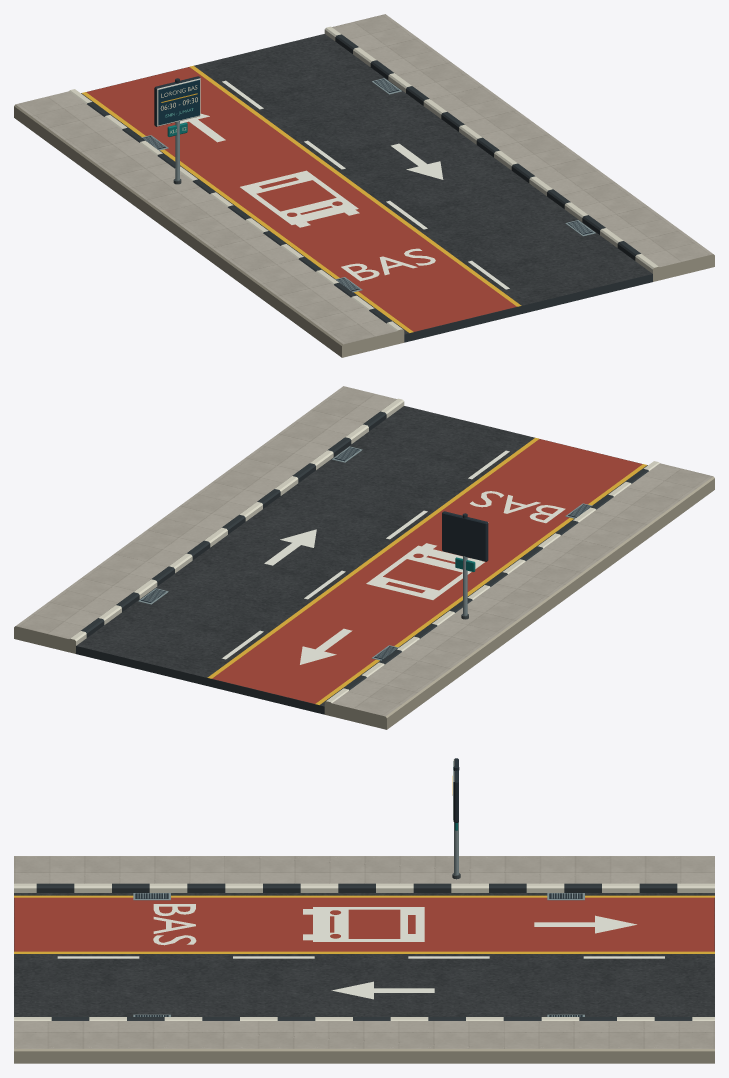
3 views of the same model, one above another, from view 1: azimuth 30°, elevation 25°; view 2: azimuth 150°, elevation 25°; view 3: azimuth 270°, elevation 25° (orthographic). The views are drawn at different scales.
Parts seen in each view (by area): view 1: Kerbs and Footways, Road Deck, Timed Priority Surfacing, Road Markings, Reserved Bus Pictogram, Priority Sign Assembly, Directional Stencils, Drainage and Utility Covers, Priority Legends; view 2: Kerbs and Footways, Road Deck, Timed Priority Surfacing, Road Markings, Reserved Bus Pictogram, Priority Sign Assembly, Directional Stencils, Drainage and Utility Covers, Priority Legends; view 3: Kerbs and Footways, Road Deck, Timed Priority Surfacing, Road Markings, Reserved Bus Pictogram, Directional Stencils, Priority Legends, Drainage and Utility Covers, Priority Sign Assembly.
Boxes of the visible parts, x1=… form: Kerbs and Footways: x1=14, y1=14, x2=714, y2=357; Road Deck: x1=81, y1=34, x2=652, y2=342; Timed Priority Surfacing: x1=86, y1=67, x2=516, y2=331; Road Markings: x1=82, y1=65, x2=521, y2=332; Reserved Bus Pictogram: x1=240, y1=170, x2=359, y2=227; Priority Sign Assembly: x1=154, y1=76, x2=200, y2=184; Directional Stencils: x1=180, y1=113, x2=443, y2=179; Drainage and Utility Covers: x1=141, y1=78, x2=595, y2=292; Priority Legends: x1=341, y1=248, x2=435, y2=281; Kerbs and Footways: x1=14, y1=386, x2=714, y2=729; Road Deck: x1=76, y1=406, x2=647, y2=714; Timed Priority Surfacing: x1=212, y1=439, x2=642, y2=703; Road Markings: x1=207, y1=437, x2=646, y2=704; Reserved Bus Pictogram: x1=366, y1=543, x2=484, y2=600; Priority Sign Assembly: x1=442, y1=511, x2=488, y2=619; Directional Stencils: x1=264, y1=529, x2=352, y2=664; Drainage and Utility Covers: x1=138, y1=446, x2=592, y2=660; Priority Legends: x1=470, y1=491, x2=565, y2=523; Kerbs and Footways: x1=14, y1=856, x2=714, y2=1063; Road Deck: x1=14, y1=893, x2=714, y2=1016; Timed Priority Surfacing: x1=14, y1=897, x2=714, y2=951; Road Markings: x1=14, y1=895, x2=714, y2=958; Reserved Bus Pictogram: x1=303, y1=907, x2=424, y2=941; Directional Stencils: x1=331, y1=915, x2=636, y2=999; Priority Legends: x1=153, y1=904, x2=196, y2=945; Drainage and Utility Covers: x1=133, y1=893, x2=584, y2=1016; Priority Sign Assembly: x1=452, y1=758, x2=460, y2=879.
Size of the model in its own units: 10.5 by 3.13 by 16.
18 materials, 2 textured.
